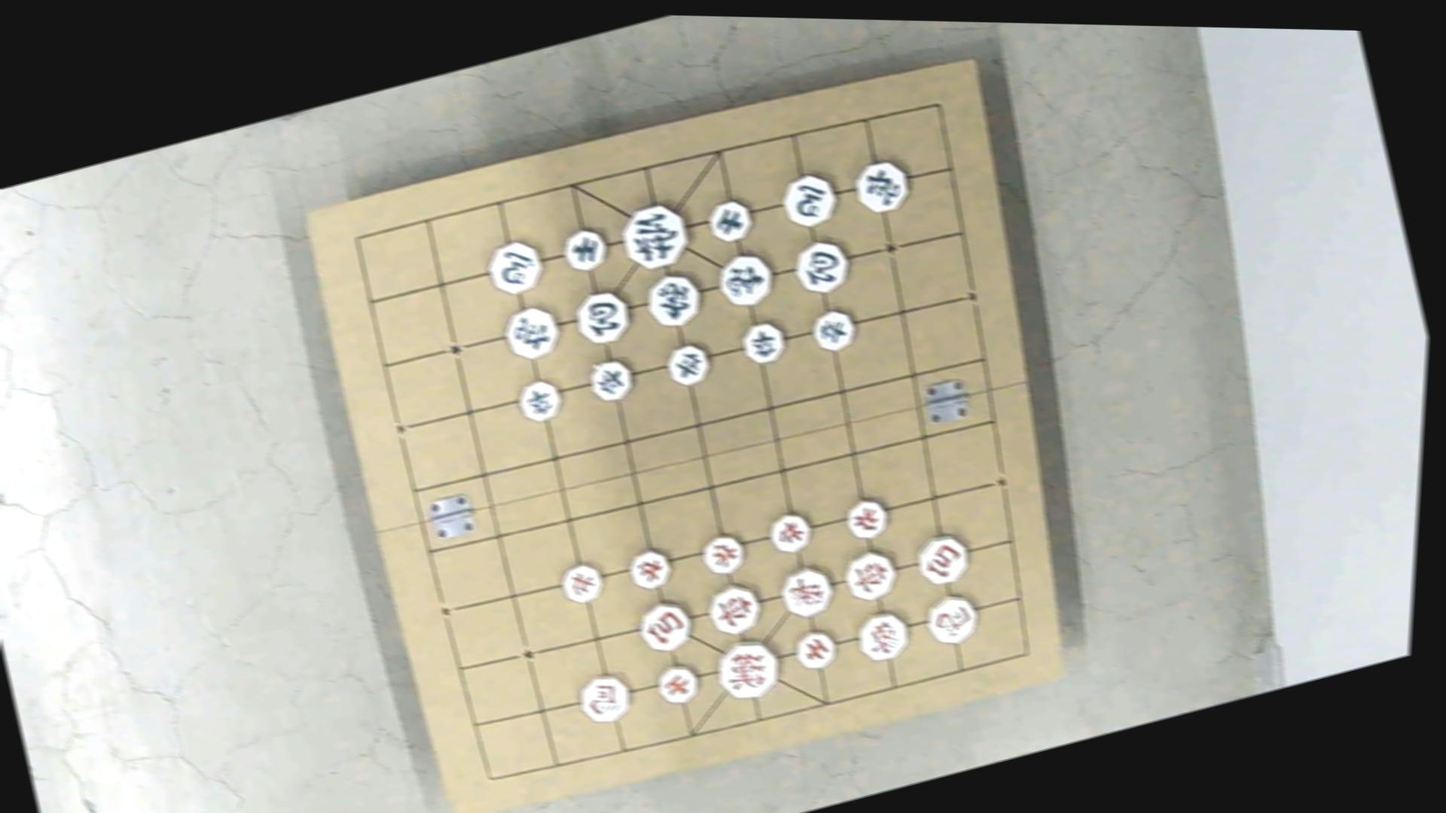cha_green: (498, 300, 565, 364), (848, 155, 913, 216)
cha_red: (701, 578, 764, 638), (838, 545, 901, 603)
jol_green: (737, 317, 789, 367), (512, 375, 563, 425), (807, 305, 859, 354), (584, 355, 636, 404), (660, 340, 713, 388)
jol_red: (840, 494, 892, 542), (555, 559, 606, 606), (696, 530, 747, 577), (624, 545, 675, 592), (764, 509, 815, 556)
ma_green: (775, 169, 840, 230), (482, 236, 547, 297)
ma_red: (920, 589, 982, 647), (572, 669, 635, 726)
po_green: (569, 285, 635, 348), (788, 236, 853, 297)
po_red: (909, 528, 973, 588), (633, 595, 695, 656)
sa_green: (558, 224, 611, 274), (703, 196, 755, 245)
sa_red: (651, 659, 703, 708), (789, 625, 841, 672)
sang_green: (639, 267, 707, 331), (711, 248, 778, 311)
sang_red: (774, 562, 837, 621), (851, 606, 913, 664)
wang_green: (614, 196, 695, 275)
wang_red: (709, 634, 785, 705)
